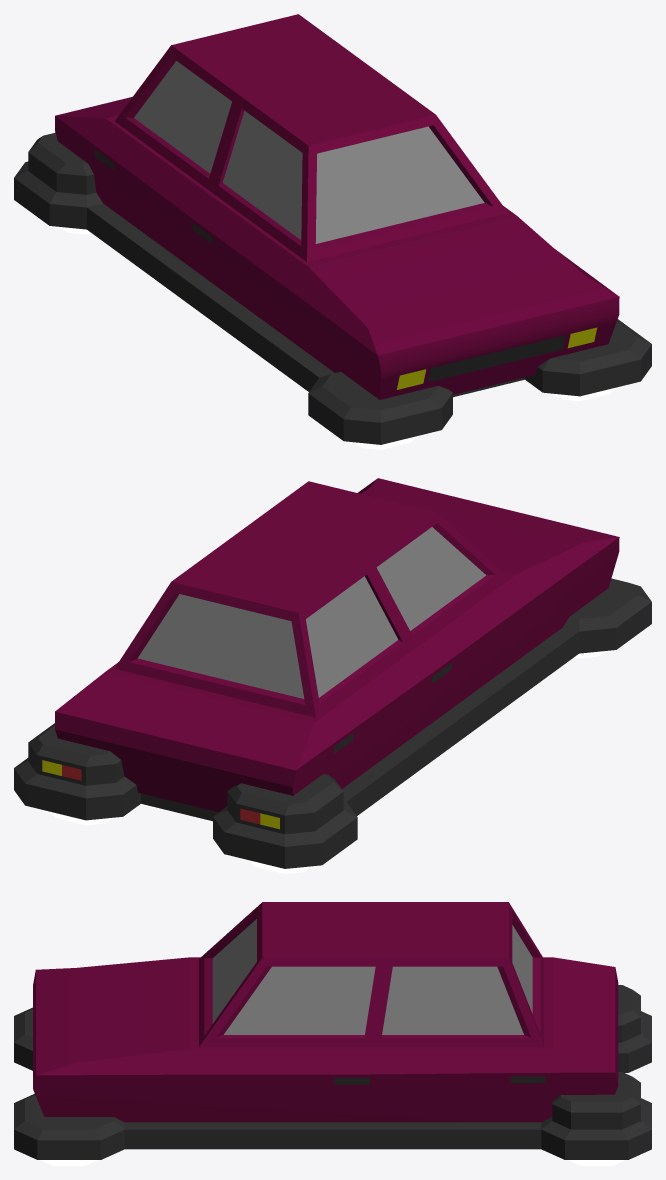
The model's file is MOBIL_NPC_PRIBADI_2.fbx.
3 views of the same model, one above another, from view 1: azimuth 30°, elevation 25°; view 2: azimuth 150°, elevation 25°; view 3: azimuth 270°, elevation 25° (orthographic). The views are drawn at different scales.
Parts seen in each view (by area): view 1: MOBIL_NPC_PRIBADI_2; view 2: MOBIL_NPC_PRIBADI_2; view 3: MOBIL_NPC_PRIBADI_2.
Boxes of the visible parts, x1=… form: MOBIL_NPC_PRIBADI_2: x1=14, y1=14, x2=651, y2=449; MOBIL_NPC_PRIBADI_2: x1=14, y1=478, x2=651, y2=873; MOBIL_NPC_PRIBADI_2: x1=14, y1=902, x2=651, y2=1165.
Bounding box in the file's own units: 172 × 107 × 343.
